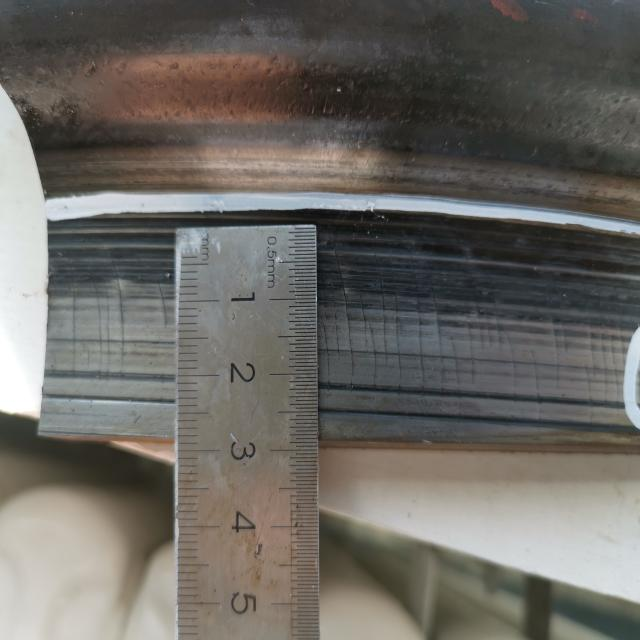Brake_Thermal_Cracks: (331, 235, 382, 393), (413, 250, 448, 387), (100, 242, 134, 379), (461, 253, 491, 388), (385, 247, 409, 383), (584, 265, 603, 426), (65, 244, 83, 386), (530, 341, 548, 426), (152, 272, 172, 334), (320, 278, 330, 366)
